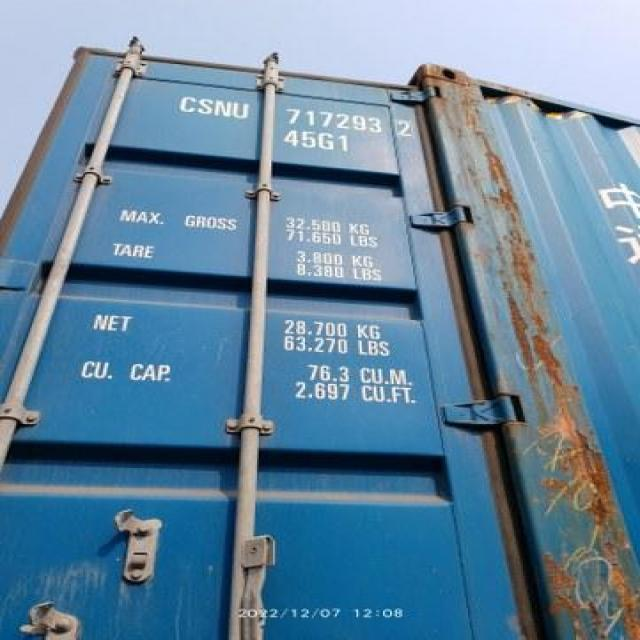container_number_h: (148, 77, 481, 199)
